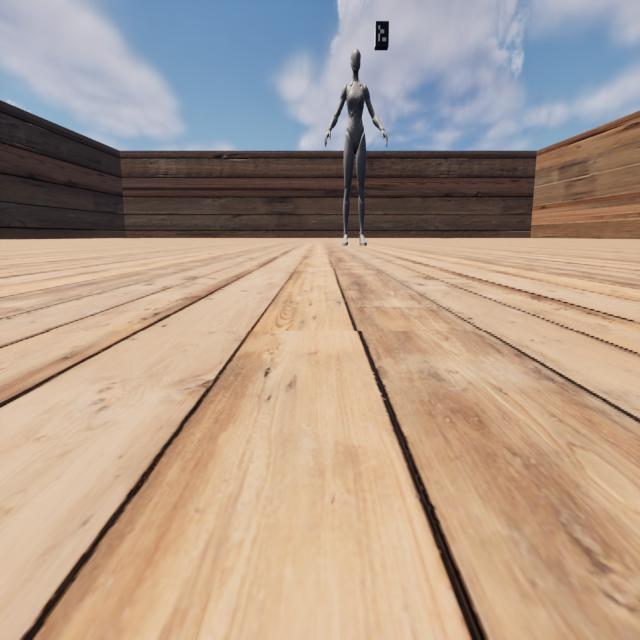aruco: (375, 21, 389, 46)
hip: (345, 132, 365, 140)
